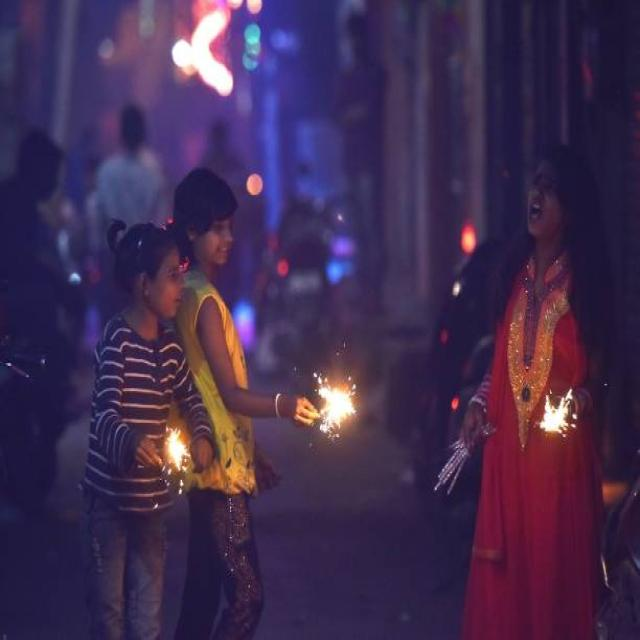fire: (313, 372, 358, 444), (162, 423, 191, 497), (539, 387, 578, 438)
